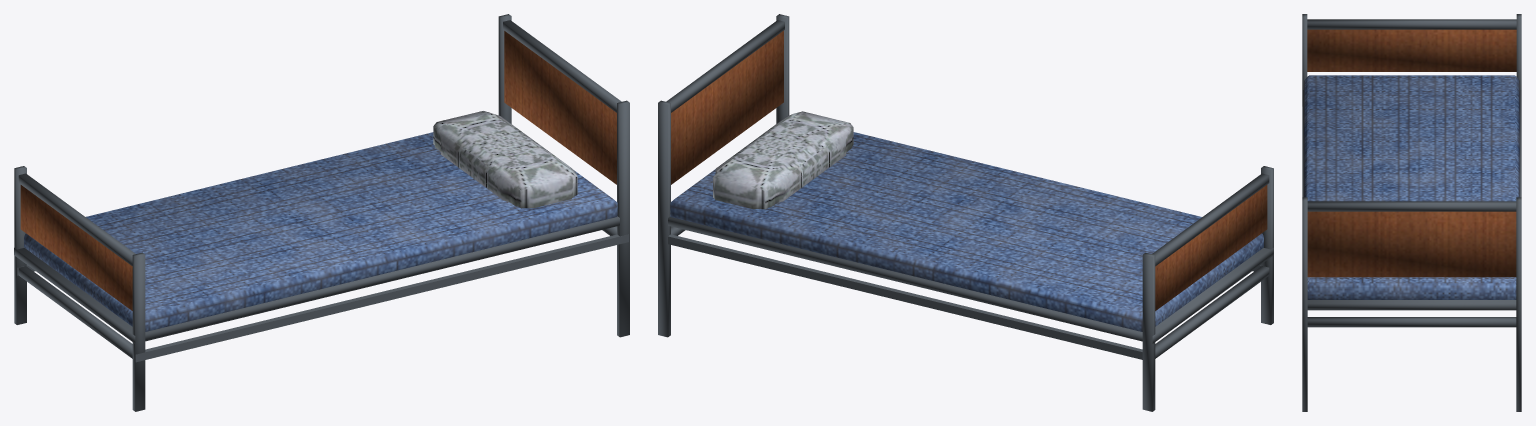
The model's file is crovat.fbx.
3 views of the same model, side by side, from view 1: azimuth 30°, elevation 25°; view 2: azimuth 150°, elevation 25°; view 3: azimuth 270°, elevation 25° (orthographic). The views are drawn at different scales.
Parts seen in each view (by area): view 1: подушка; view 2: подушка; view 3: подушка.
Boxes of the visible parts, <box> form: подушка: <box>14,14,629,411</box>; подушка: <box>658,14,1273,411</box>; подушка: <box>1302,14,1521,411</box>.
Bounding box in the file's own units: 2005 × 900 × 852.
1 material, 1 textured.
